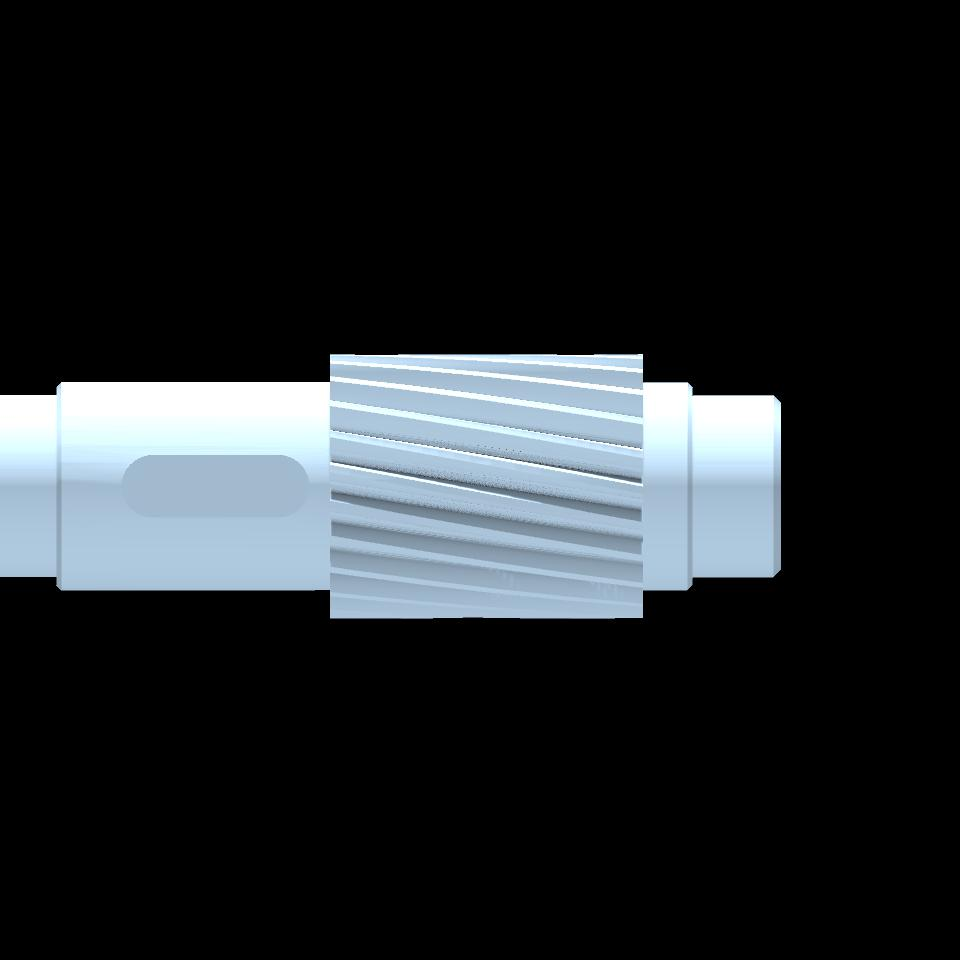Helical: (331, 353, 641, 619)
